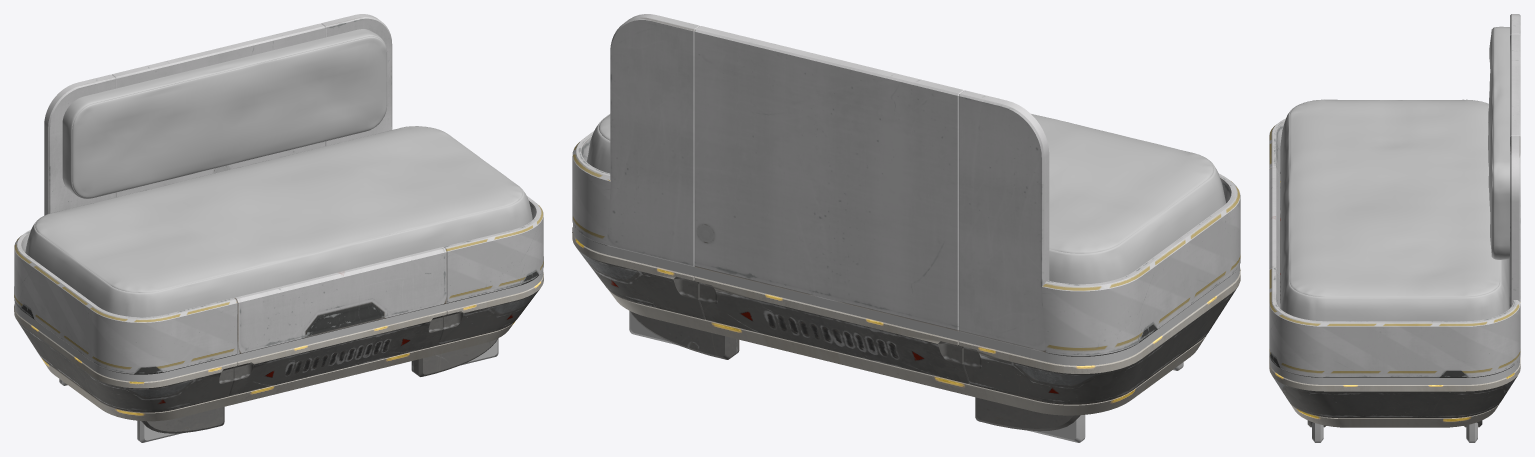
Rendered from KB3D_MTM_PropSofa_A.fbx.
3 views of the same model, side by side, from view 1: azimuth 30°, elevation 25°; view 2: azimuth 150°, elevation 25°; view 3: azimuth 270°, elevation 25° (orthographic). The views are drawn at different scales.
Visible parts, largest first — view 1: KB3D_MTM_PropSofa_A_Main; view 2: KB3D_MTM_PropSofa_A_Main; view 3: KB3D_MTM_PropSofa_A_Main.
Part boxes in pixels (left/top/right/bottom): KB3D_MTM_PropSofa_A_Main: left=14, top=14, right=543, bottom=442; KB3D_MTM_PropSofa_A_Main: left=572, top=14, right=1240, bottom=442; KB3D_MTM_PropSofa_A_Main: left=1269, top=14, right=1520, bottom=442.
Bounding box in the file's own units: 174 × 103 × 86.4.
